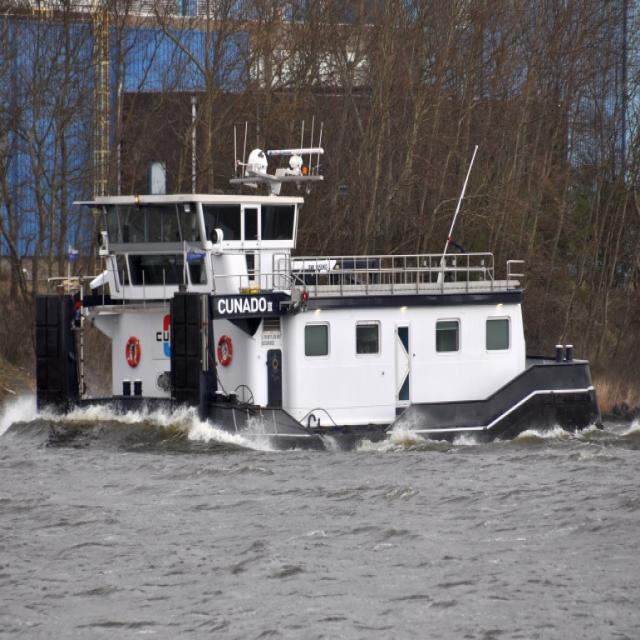tugboat: (33, 142, 609, 466)
